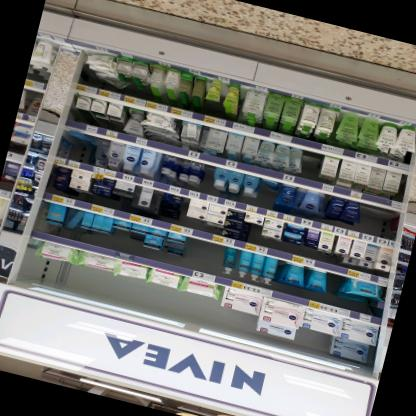empty_space: (181, 237, 226, 275), (353, 202, 392, 236), (299, 150, 323, 181), (320, 270, 342, 298), (198, 165, 216, 193), (175, 198, 191, 224)
